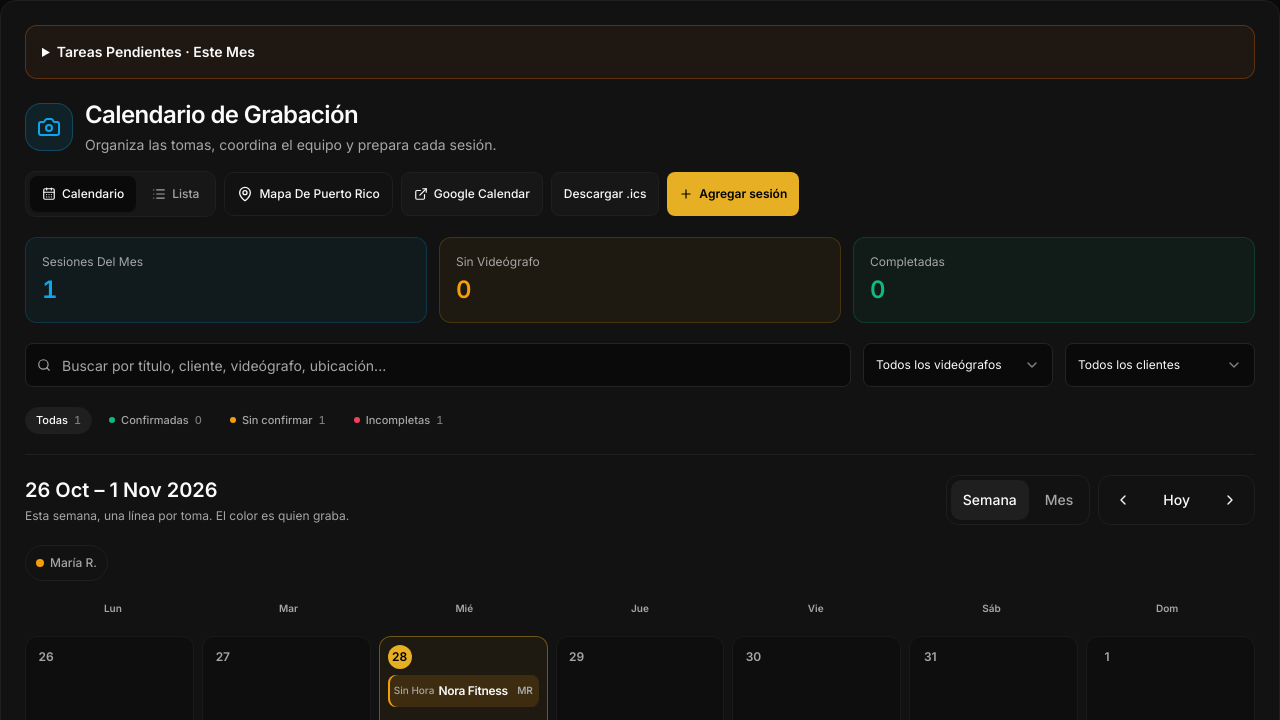
Test: shows the client editor separately from the videographer
The image size is (1280, 720).
Expected: the text "Editor · Carlos Villalta" is not shown
Click the text "Nora Fitness" at (476,690), box [438, 682, 513, 698]
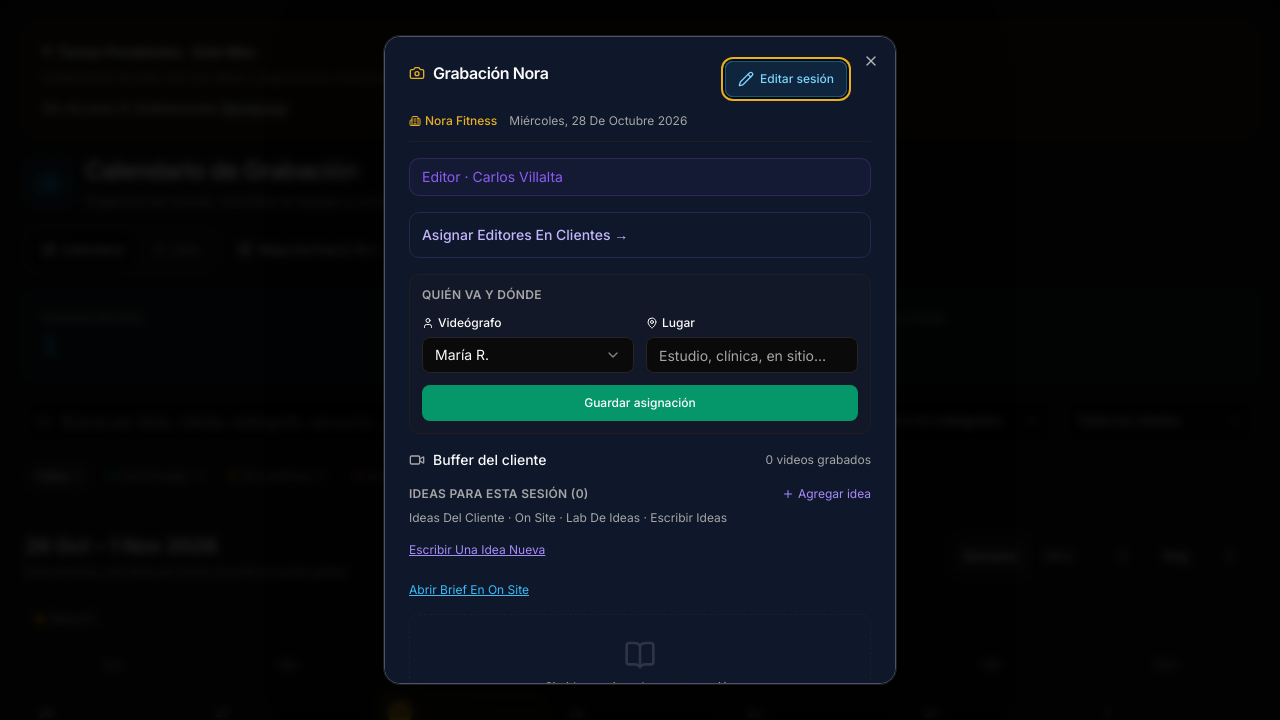
Expected: the text "Editor · Carlos Villalta" is shown, [409, 158, 871, 196]
